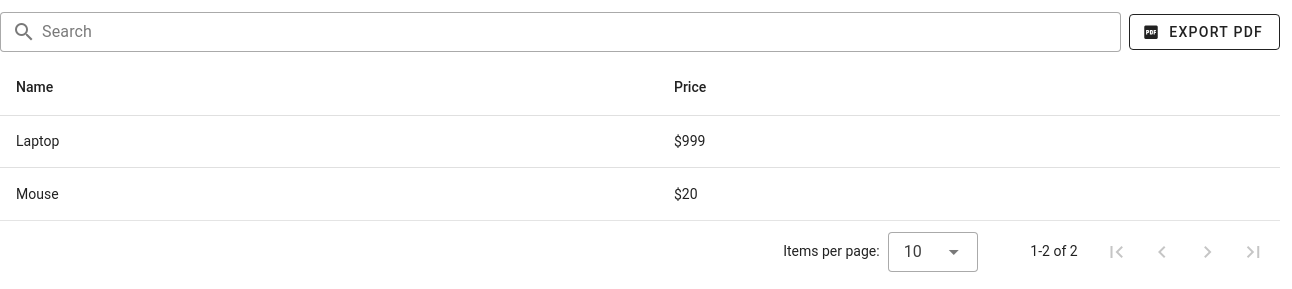
Test: DataTable › filters rows using each column value() function when searching
Type "mouse" into the field labelled "Search" at (579, 32), box 36,12 -> 1121,52
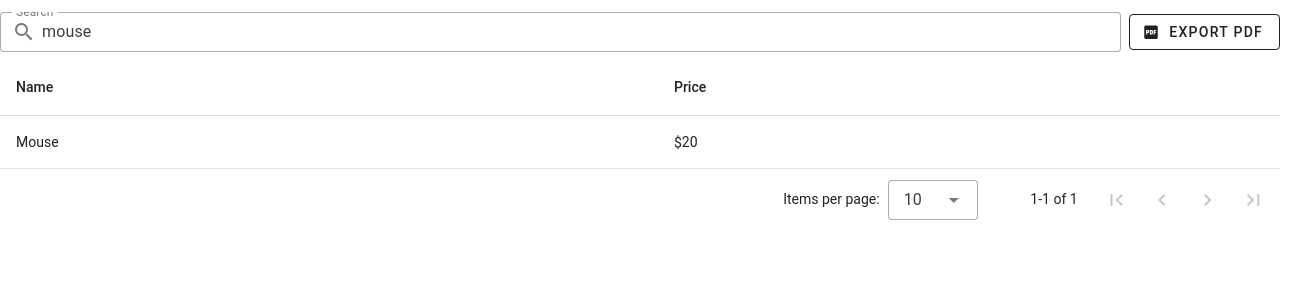
Expected: the text "Mouse" is shown, 0,116 -> 658,168
Result: the text "Laptop" is gone
